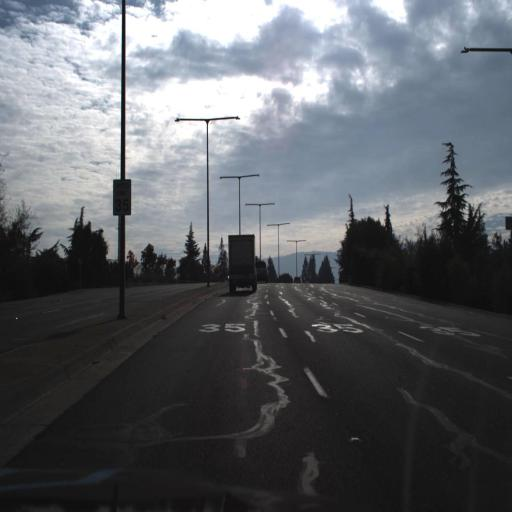car: (254, 259, 270, 284), (293, 272, 302, 286)
truck: (227, 230, 256, 290)
